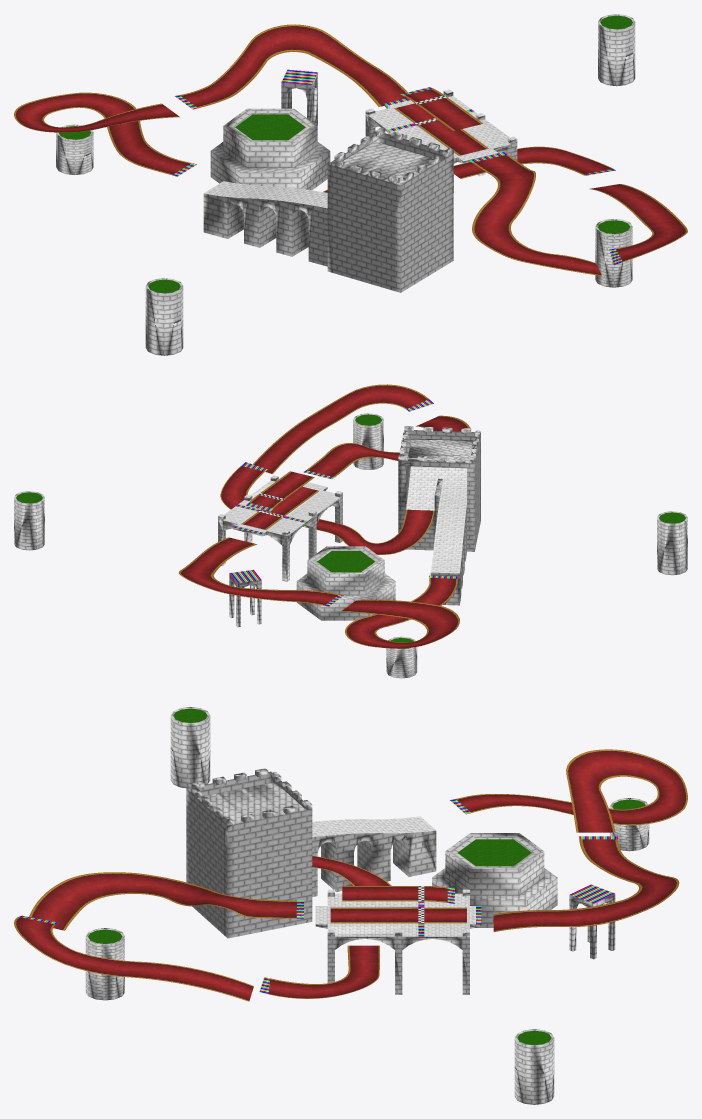
3 renders of one model, top to bottom at view 1: azimuth 30°, elevation 25°; view 2: azimuth 150°, elevation 25°; view 3: azimuth 270°, elevation 25°, orthographic. The views are drawn at different scales.
Parts seen in each view (by area): view 1: magic-5.009, magic-5.008, magic-5.011, magic-5.012, magic-5.007; view 2: magic-5.008, magic-5.009, magic-5.011, magic-5.012, magic-5.007; view 3: magic-5.009, magic-5.008, magic-5.011, magic-5.012, magic-5.007.
Boxes of the visible parts, bbox=[...] form: magic-5.009: bbox=[56, 14, 635, 355]; magic-5.008: bbox=[14, 24, 687, 275]; magic-5.011: bbox=[204, 89, 516, 208]; magic-5.012: bbox=[59, 15, 632, 293]; magic-5.007: bbox=[172, 69, 622, 264]; magic-5.008: bbox=[178, 384, 470, 648]; magic-5.009: bbox=[14, 413, 687, 678]; magic-5.011: bbox=[218, 466, 466, 573]; magic-5.012: bbox=[16, 414, 685, 649]; magic-5.007: bbox=[229, 399, 458, 606]; magic-5.009: bbox=[85, 707, 649, 1104]; magic-5.008: bbox=[14, 749, 687, 1001]; magic-5.011: bbox=[312, 816, 475, 936]; magic-5.012: bbox=[88, 708, 645, 1045]; magic-5.007: bbox=[18, 799, 617, 994].
Size of what is drawn, in the model's own units: 796 by 133 by 682.
Materials: 6 (6 with a texture image).
